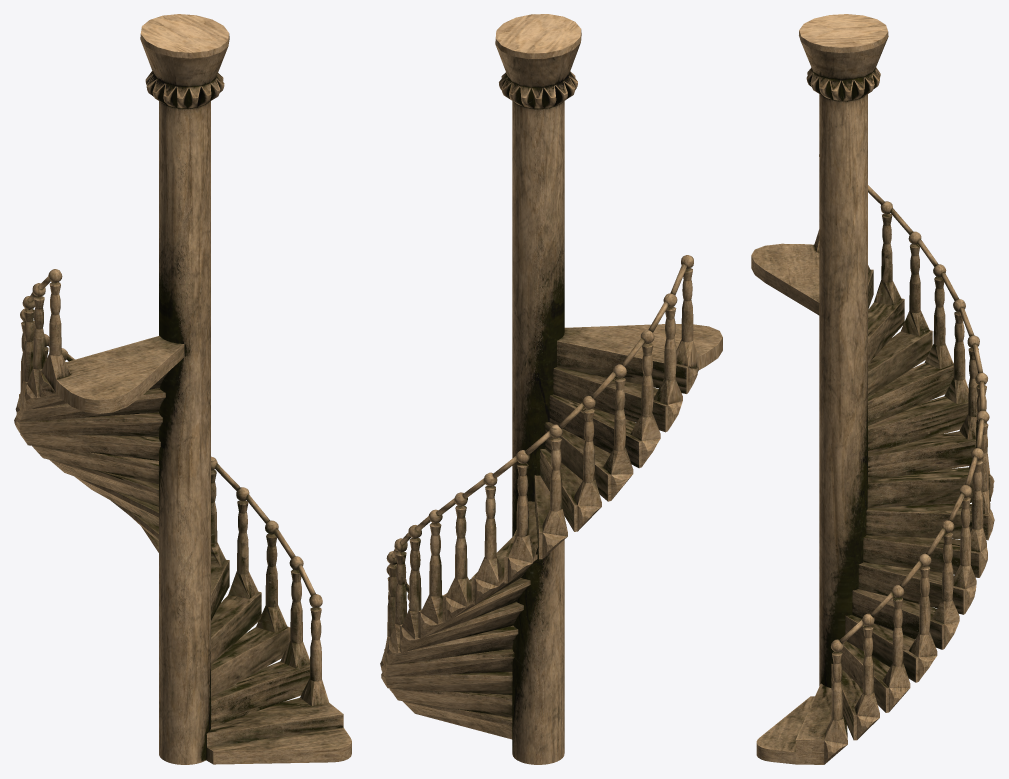
The picture shows the model from 3 angles, left to right: view 1: azimuth 30°, elevation 25°; view 2: azimuth 150°, elevation 25°; view 3: azimuth 270°, elevation 25°; orthographic projection. The views are drawn at different scales.
Parts seen in each view (by area): view 1: STEP, PILLAR; view 2: STEP, PILLAR; view 3: STEP, PILLAR.
Boxes of the visible parts, box(x1,y1,x2,y2) form: STEP: box(14, 269, 351, 764); PILLAR: box(140, 14, 229, 764); STEP: box(380, 255, 722, 739); PILLAR: box(495, 14, 581, 764); STEP: box(751, 154, 994, 764); PILLAR: box(799, 14, 888, 687).
Size of the model in its own units: 1961 by 4657 by 1527.
2 materials, 2 textured.
